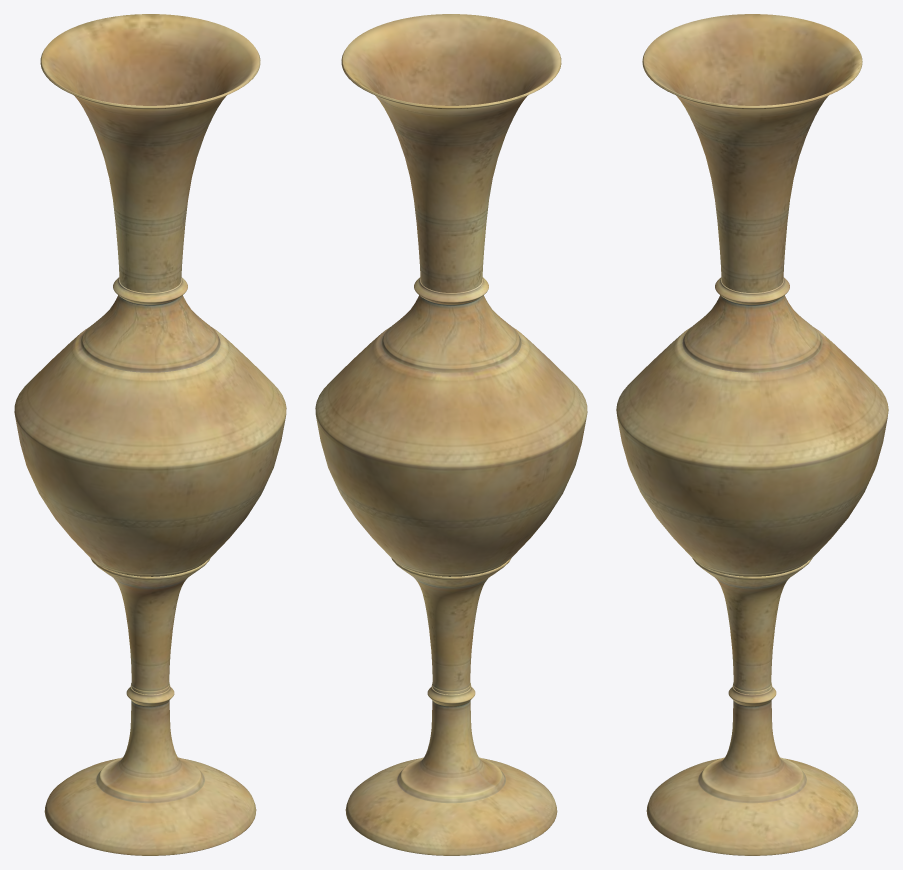
File: brass_vase_01.glb
3 renders of one model, left to right at view 1: azimuth 30°, elevation 25°; view 2: azimuth 150°, elevation 25°; view 3: azimuth 270°, elevation 25°, orthographic.
Visible parts, largest first — view 1: brass_vase_01; view 2: brass_vase_01; view 3: brass_vase_01.
Part boxes in pixels (bbox=[...]): brass_vase_01: bbox=[14, 14, 286, 855]; brass_vase_01: bbox=[315, 14, 587, 855]; brass_vase_01: bbox=[616, 14, 888, 855].
Size of the model in its own units: 0.2273 by 0.6925 by 0.2273.
Materials: 1 (1 with a texture image).
